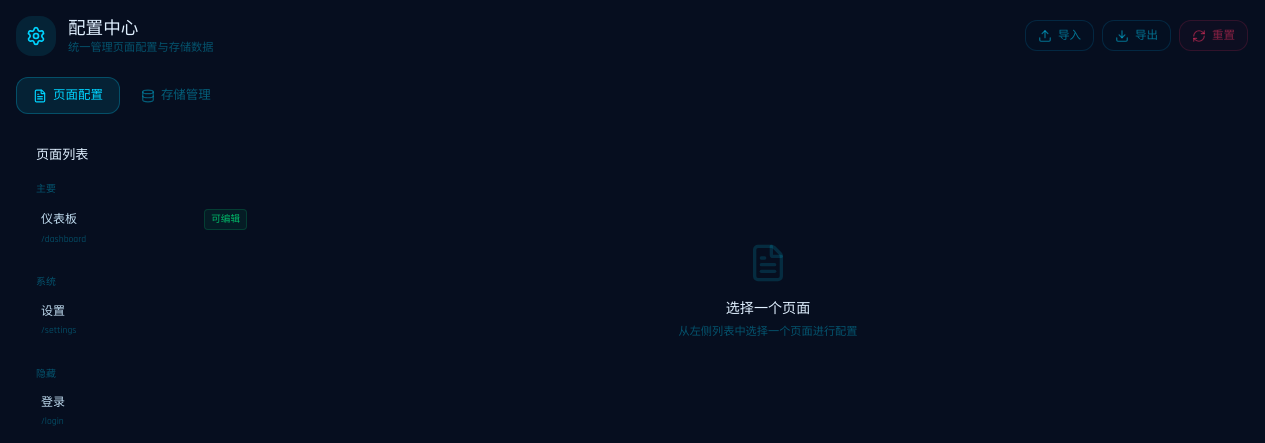
Test: ConfigCenter › storage tab renders StorageManager (internal component)
Click the button "存储管理": (176, 96) [124, 77, 228, 114]
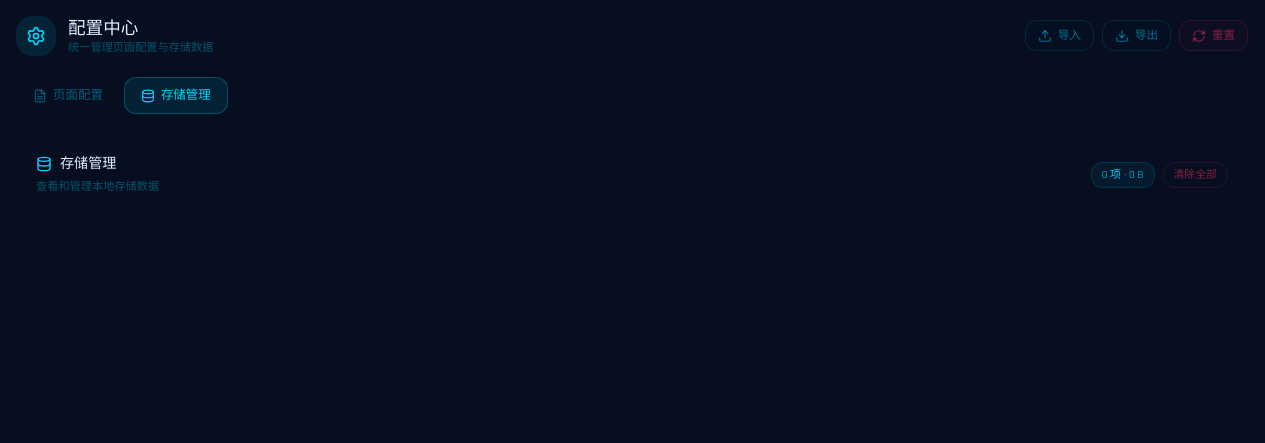
Result: the text "查看和管理本地存储数据" is shown at [36, 179, 159, 196]
